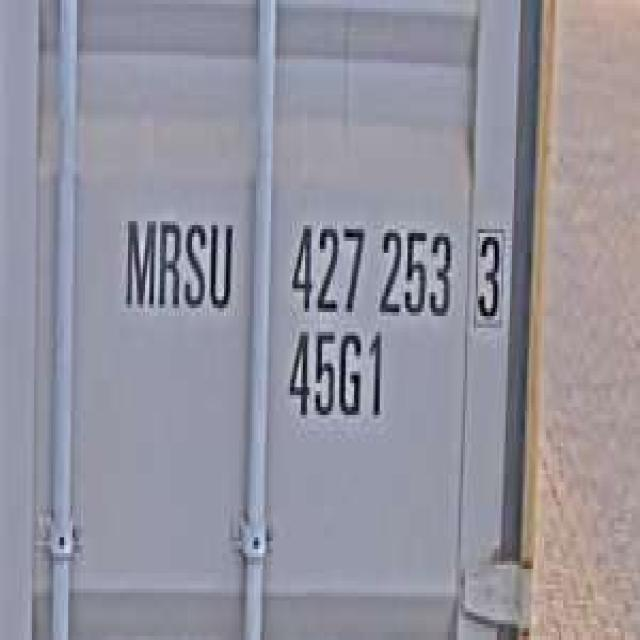dv: (469, 217, 508, 332)
owner: (117, 201, 237, 324)
serial: (284, 205, 456, 328)
size: (282, 324, 388, 431)
